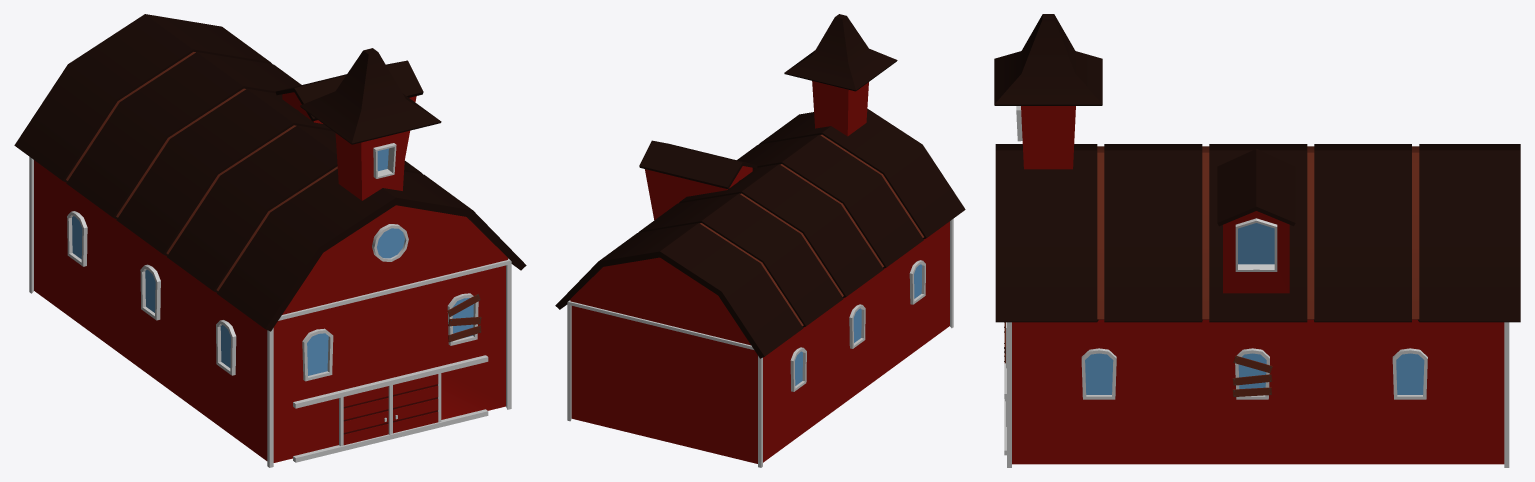
File: Barn.fbx
The picture shows the model from 3 angles, left to right: view 1: azimuth 30°, elevation 25°; view 2: azimuth 150°, elevation 25°; view 3: azimuth 270°, elevation 25°; orthographic projection. The views are drawn at different scales.
Parts seen in each view (by area): view 1: Mesh; view 2: Mesh; view 3: Mesh.
Boxes of the visible parts, x1,y1,x2,y2 form: Mesh: (14,14,526,467); Mesh: (555,14,965,467); Mesh: (994,14,1520,467).
Bounding box in the file's own units: 2507 × 3341 × 4089.
